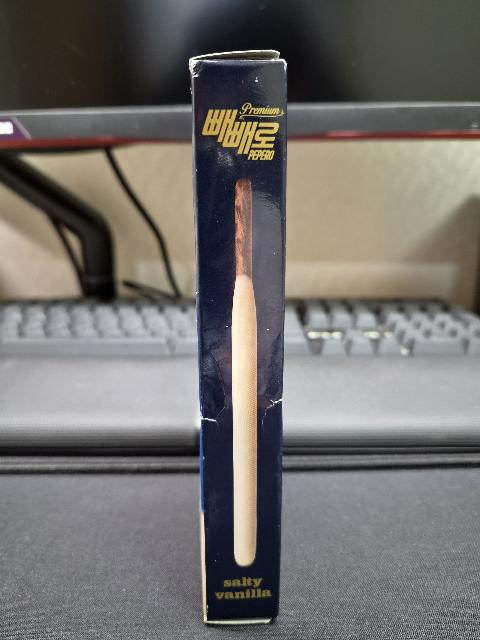pepero: (189, 49, 288, 624)
